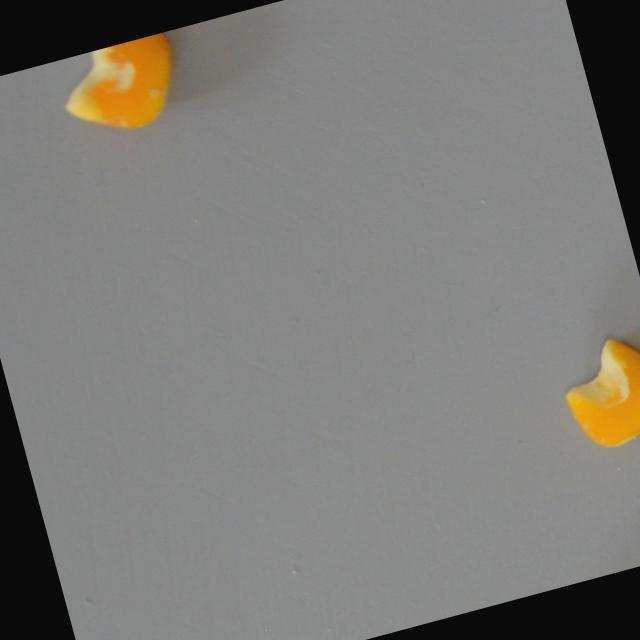pelicula: (49, 29, 194, 150), (548, 326, 640, 460)
